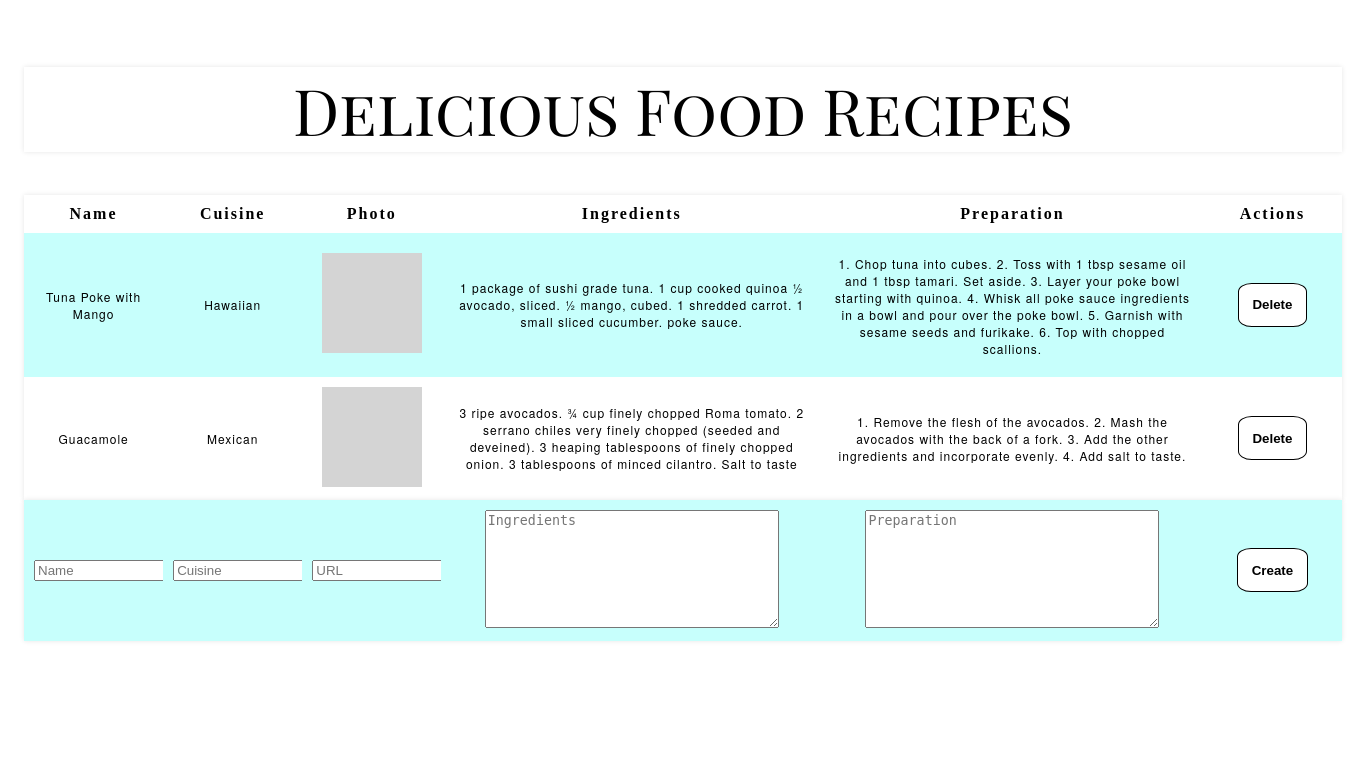
Test: App › deletes › recipe is deleted when the delete button is clicked
Expected: the text "Tuna Poke with Mango" is shown, [24,233,163,377]
Click the button "Delete" in the row of "Tuna Poke with Mango" at {"x": 1272, "y": 305}, box [1238,283,1307,327]
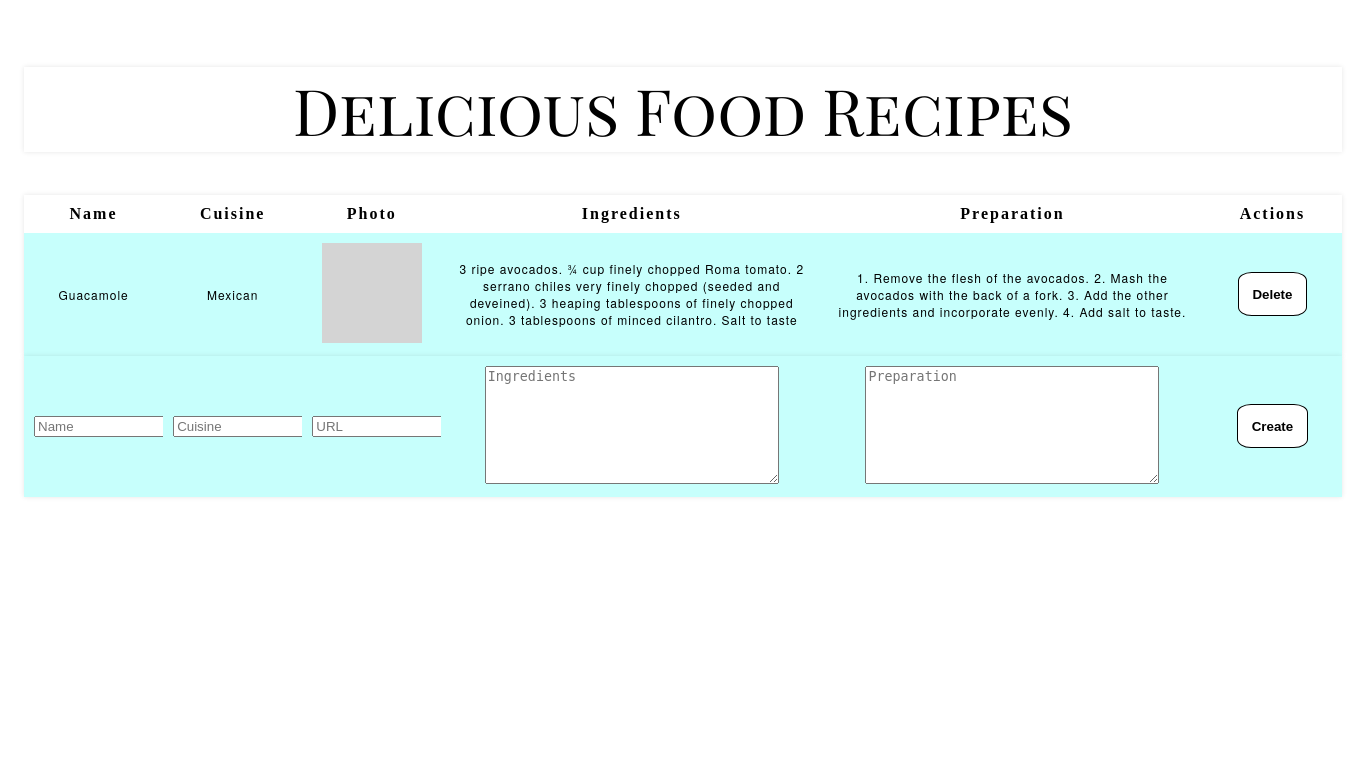
Now the text "Tuna Poke with Mango" is gone
